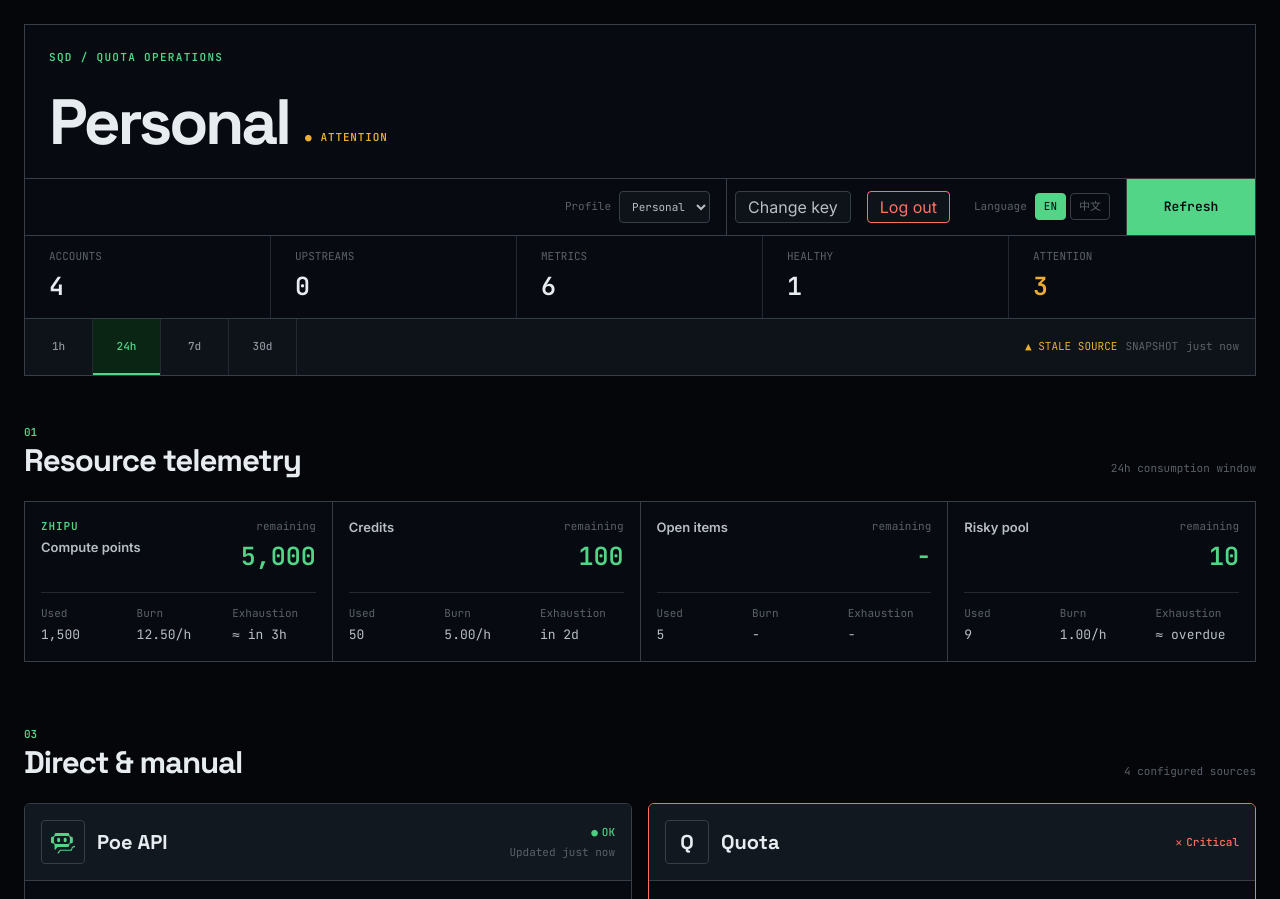
Test case: change key clears current profile session and returns to view-key form
Click the button "Change key": (793, 206) 735,190 -> 851,222
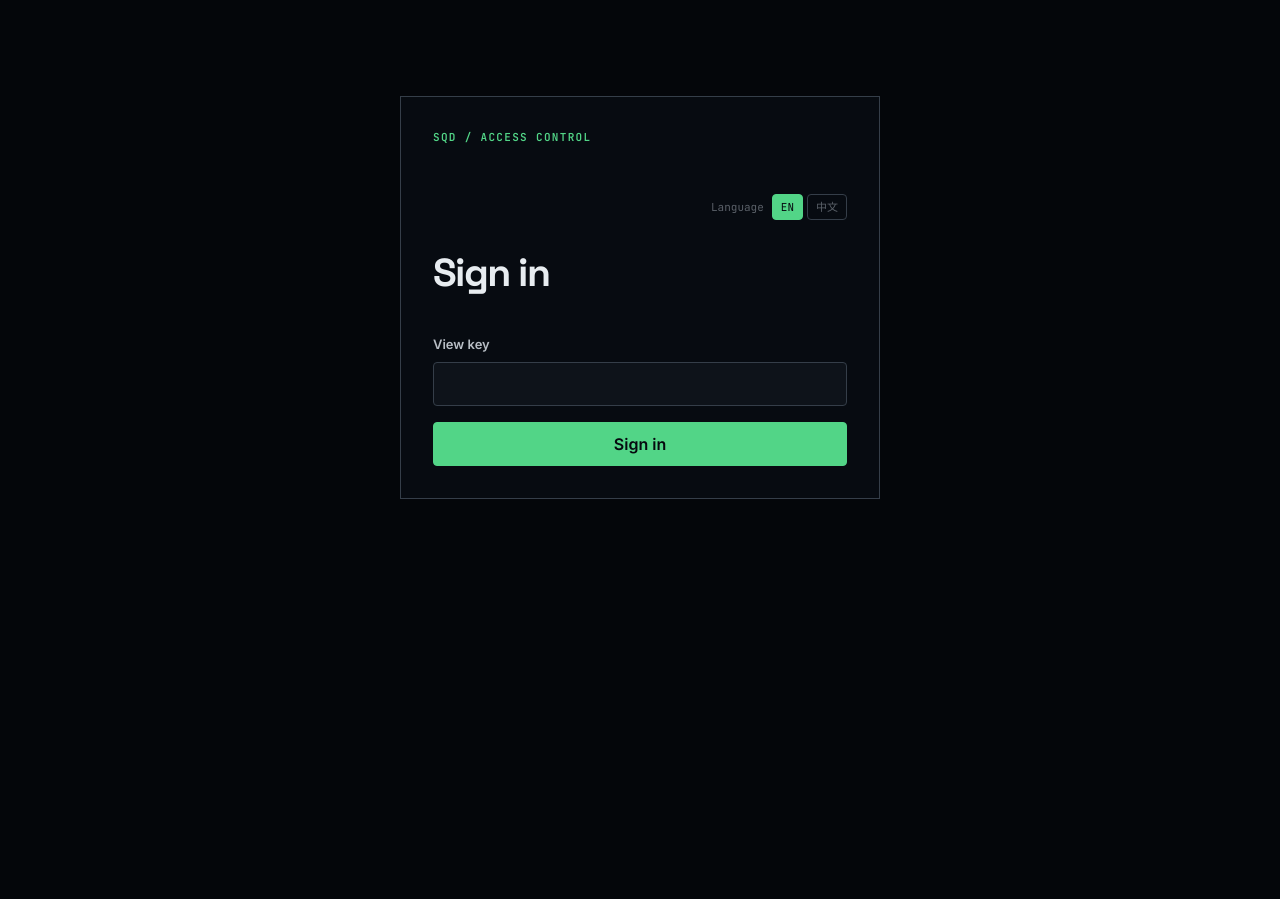
Result: the password field labelled "View key" is shown at 433,362 -> 847,406
